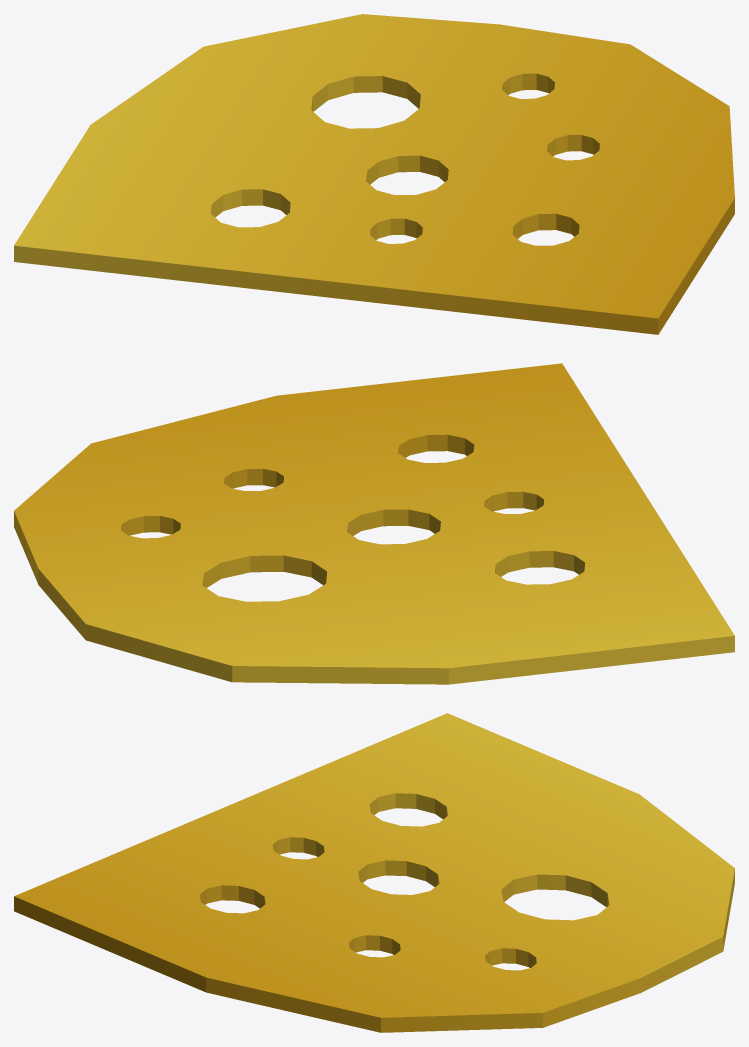
The model's file is cheese_4.glb.
3 views of the same model, one above another, from view 1: azimuth 30°, elevation 25°; view 2: azimuth 150°, elevation 25°; view 3: azimuth 270°, elevation 25° (orthographic). The views are drawn at different scales.
Visible parts, largest first — view 1: cheese_4; view 2: cheese_4; view 3: cheese_4.
Boxes of the visible parts, box(x1,y1,x2,y2) form: cheese_4: box(14, 14, 734, 334); cheese_4: box(14, 363, 734, 684); cheese_4: box(14, 713, 734, 1032).
Bounding box in the file's own units: 0.265 × 0.00609 × 0.265.
Materials: 1 (1 with a texture image).
